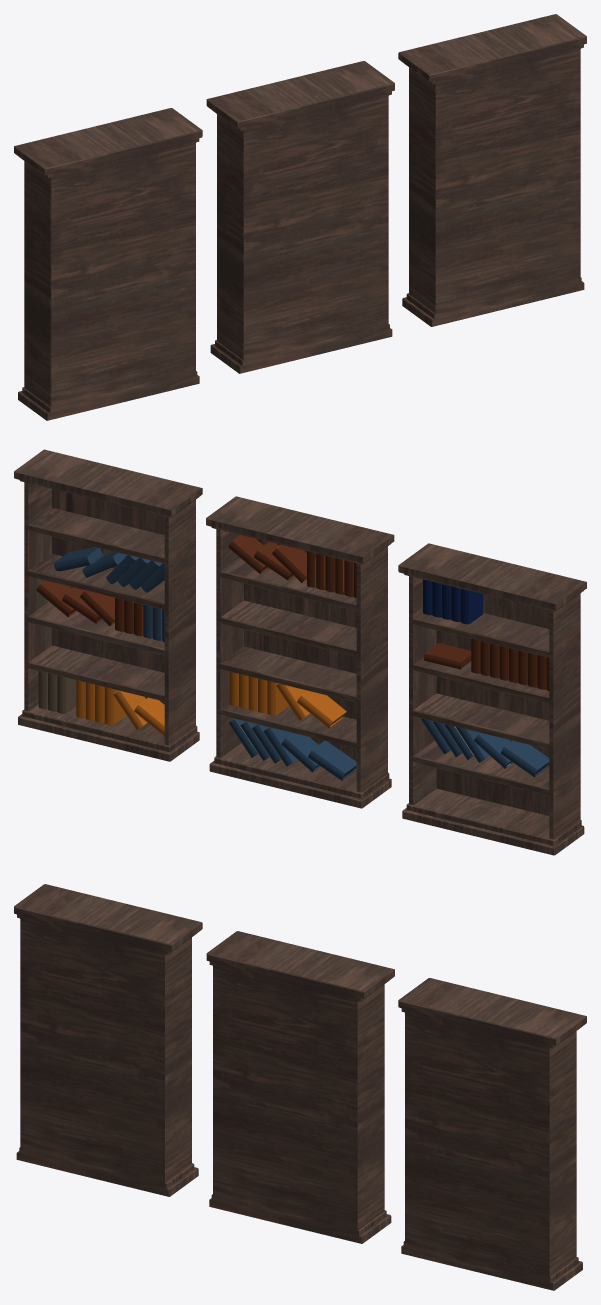
File: Shelves.fbx
3 views of the same model, one above another, from view 1: azimuth 30°, elevation 25°; view 2: azimuth 150°, elevation 25°; view 3: azimuth 330°, elevation 25° (orthographic).
Visible parts, largest first — view 1: Shelf 1, Shelf 2, Shelf 3; view 2: Shelf 2, Shelf 3, Shelf 1; view 3: Shelf 2, Shelf 3, Shelf 1.
Part boxes in pixels (x1,y1,x2,y2): Shelf 1: [398, 14, 586, 326]; Shelf 2: [206, 61, 394, 373]; Shelf 3: [14, 108, 202, 420]; Shelf 2: [206, 496, 394, 808]; Shelf 3: [398, 543, 586, 855]; Shelf 1: [14, 449, 202, 761]; Shelf 2: [206, 931, 394, 1243]; Shelf 3: [14, 884, 202, 1196]; Shelf 1: [398, 978, 586, 1290].
Size of the model in its own units: 272 by 121 by 27.01.
Materials: 3 (3 with a texture image).
